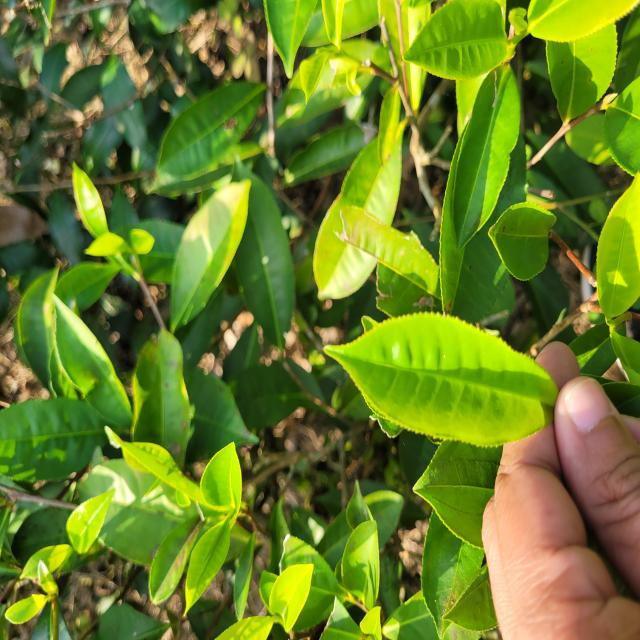Category B(2-4 days): (312, 281, 568, 474)
